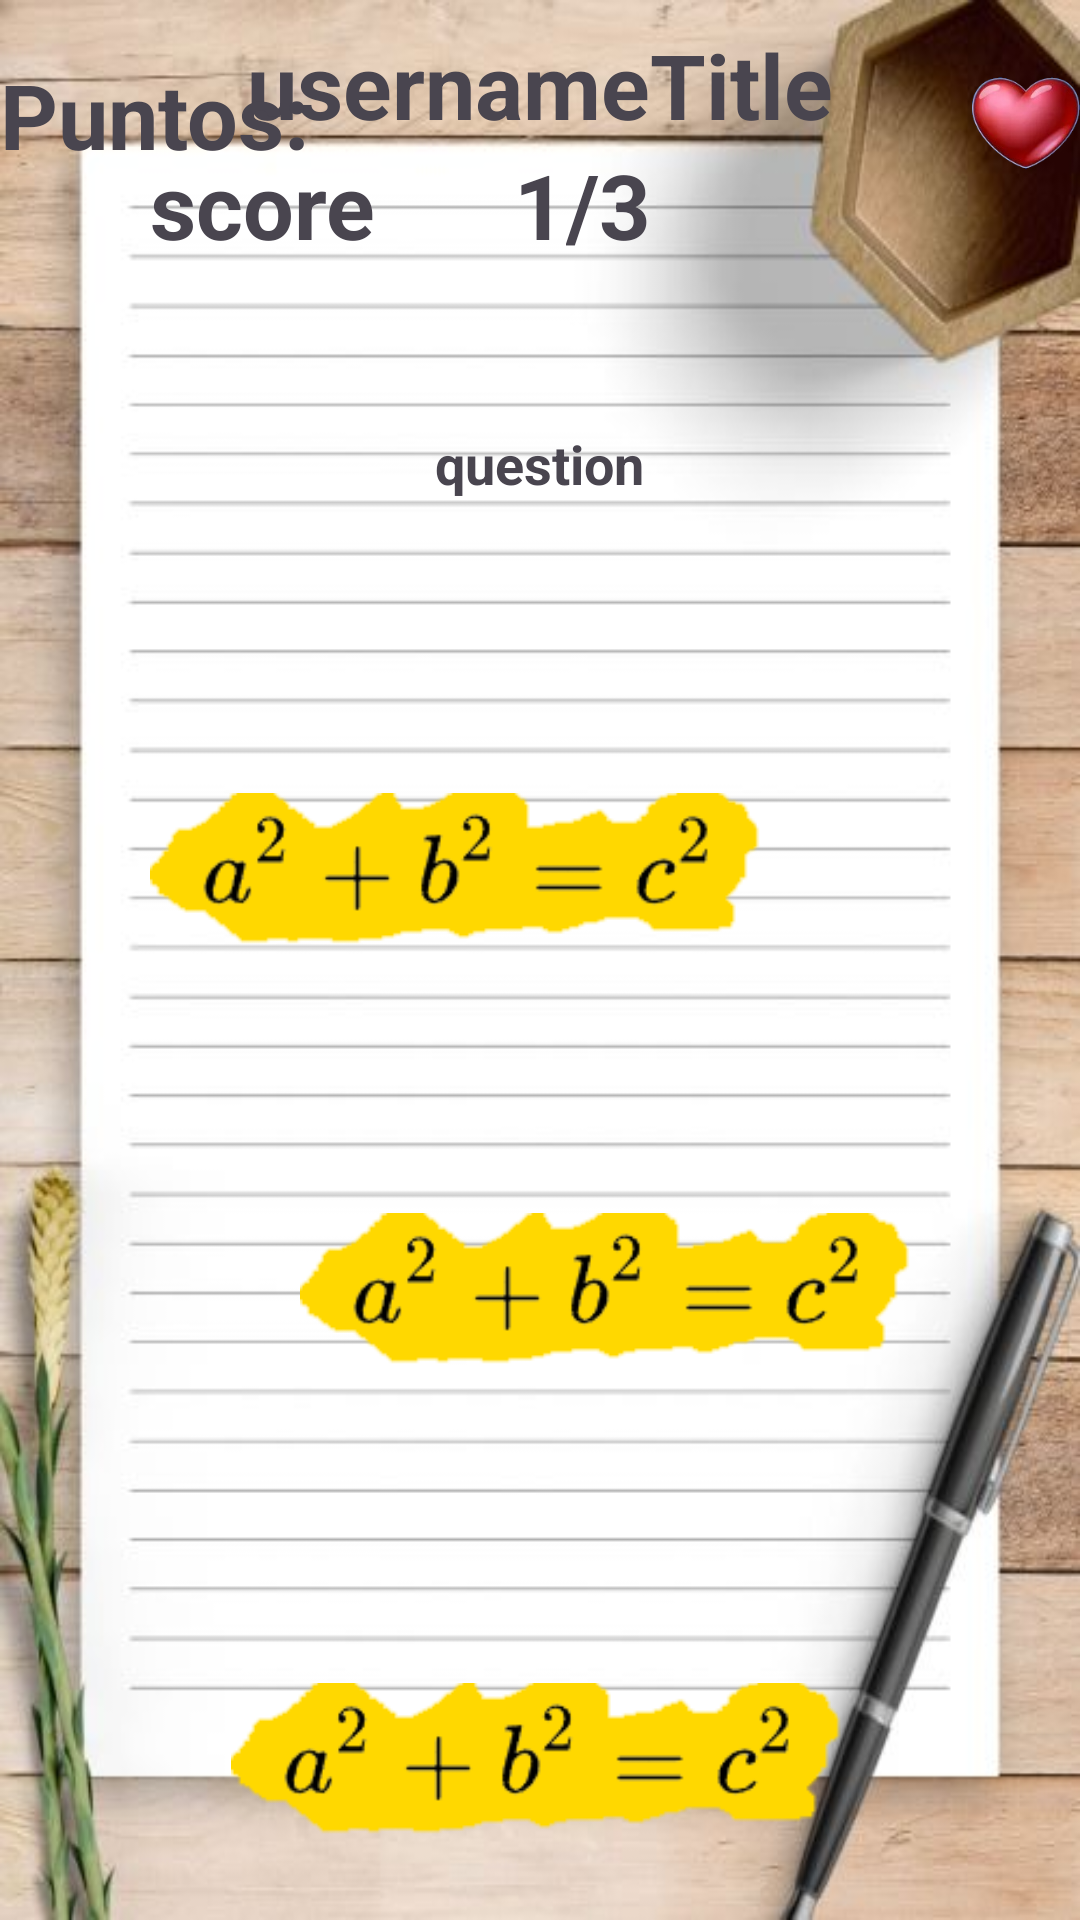

Point at icon controls on the screen. Image size 1080 x 1920, points as [x,y].
life: [1026,123]
